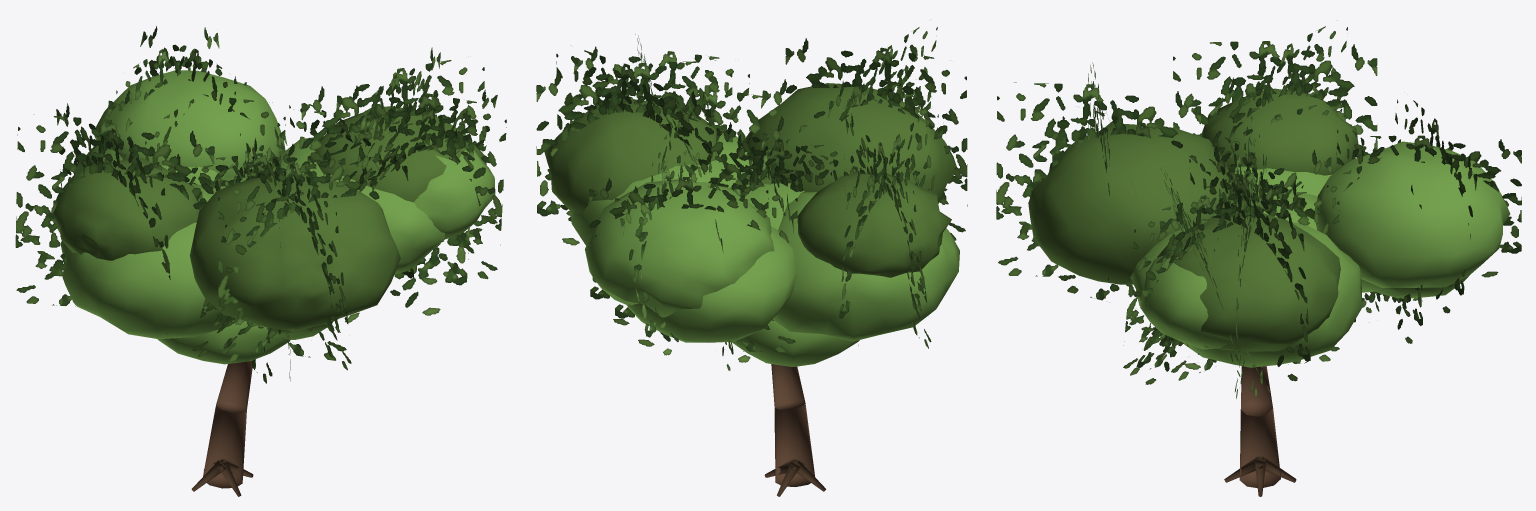
The model's file is tree_green2.glb.
The picture shows the model from 3 angles, left to right: view 1: azimuth 30°, elevation 25°; view 2: azimuth 150°, elevation 25°; view 3: azimuth 270°, elevation 25°; orthographic projection. The views are drawn at different scales.
Visible parts, largest first — view 1: geometry_0, geometry_1; view 2: geometry_0, geometry_1; view 3: geometry_0, geometry_1.
Part boxes in pixels (<box>): geometry_0: <box>53,70,495,496</box>; geometry_1: <box>15,26,506,383</box>; geometry_0: <box>544,83,959,496</box>; geometry_1: <box>536,27,967,370</box>; geometry_0: <box>1028,88,1510,496</box>; geometry_1: <box>996,26,1521,398</box>.
Size of the model in its own units: 7.17 by 6.18 by 7.5.
2 materials, 1 textured.
